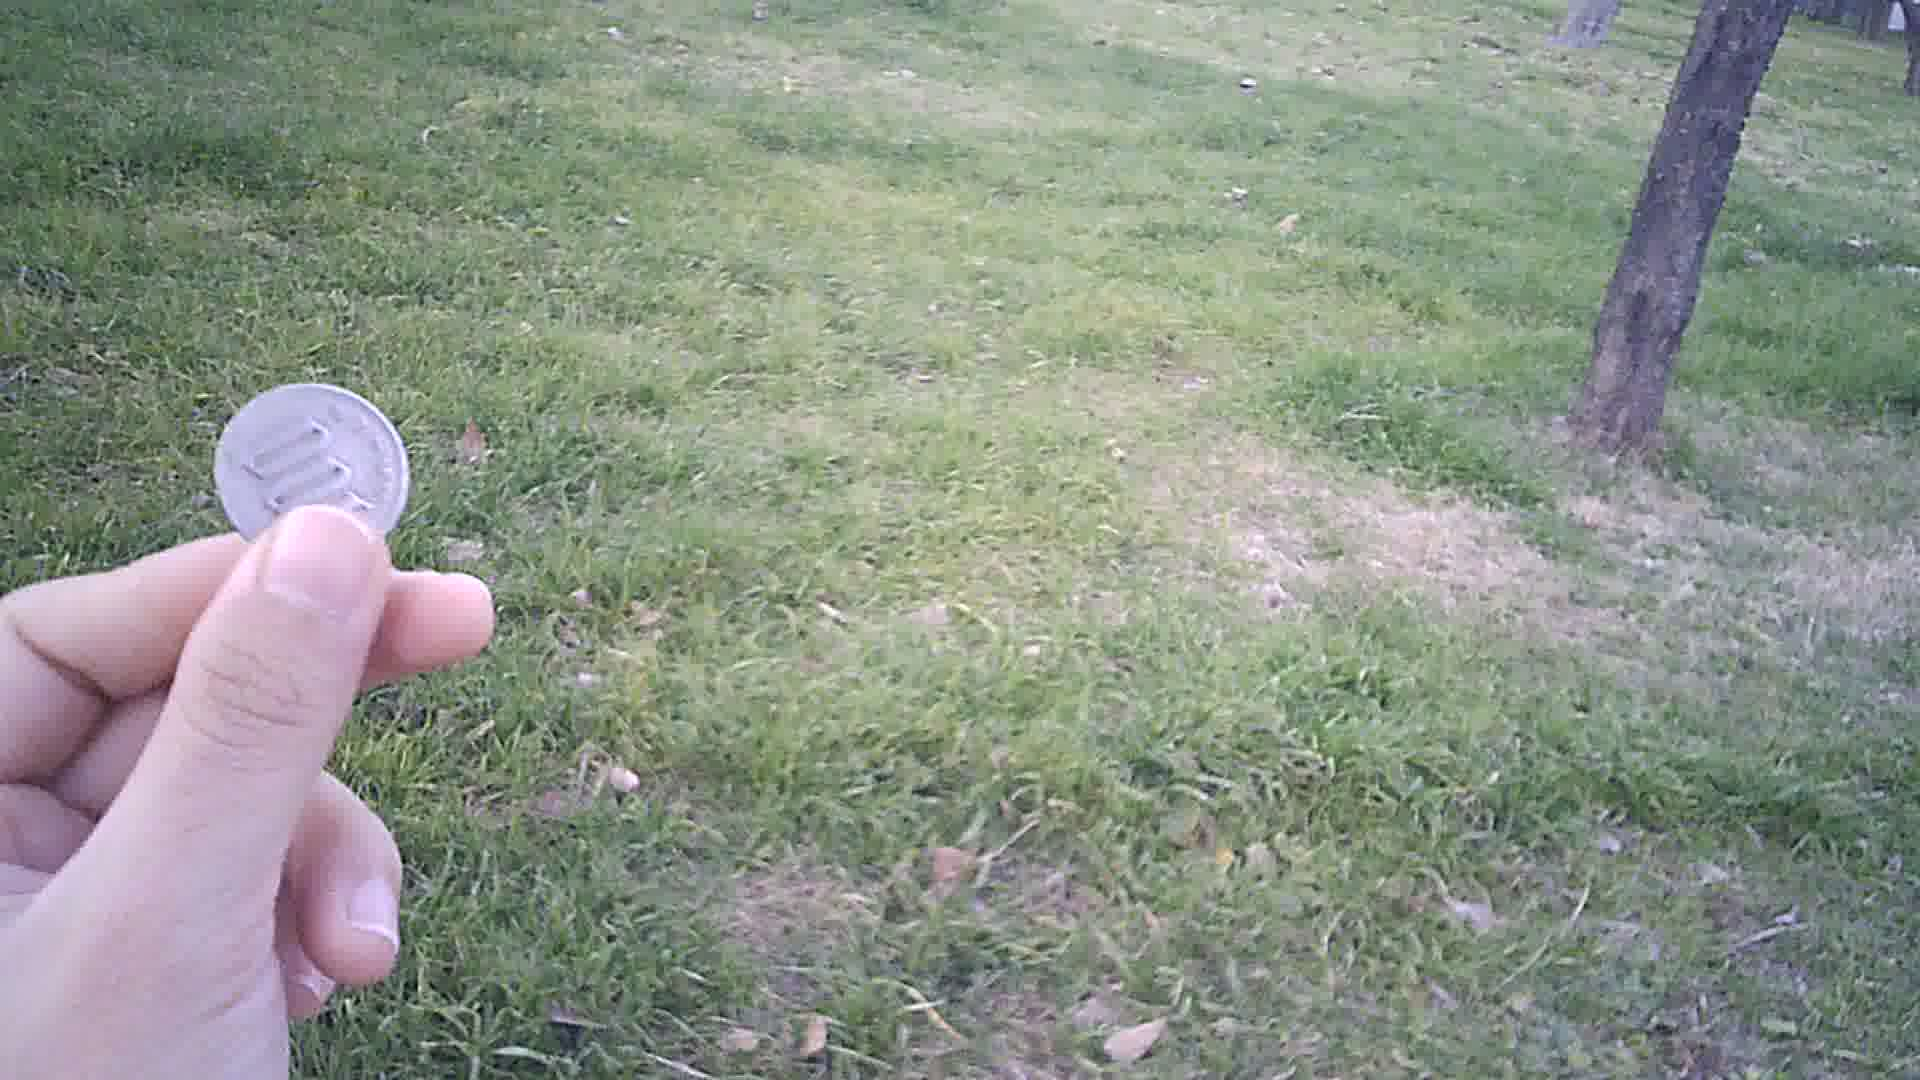100 Yen: (210, 380, 413, 560)
